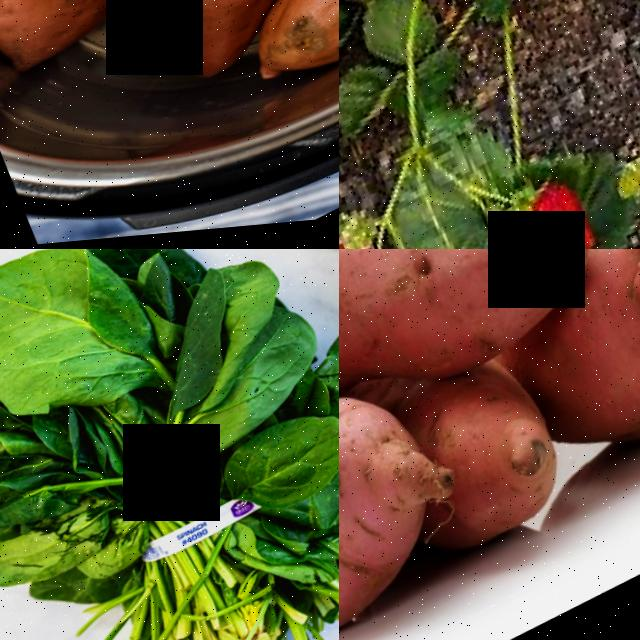spinach: (126, 249, 339, 472), (0, 249, 179, 482), (203, 394, 339, 542)
strawberry: (528, 175, 604, 249)
sweet potato: (339, 249, 611, 464), (339, 318, 485, 640), (418, 353, 581, 556), (0, 0, 293, 85), (571, 249, 640, 456)
